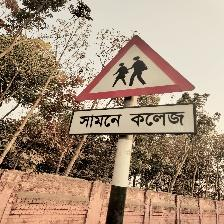College-in-front: (60, 20, 207, 145)
